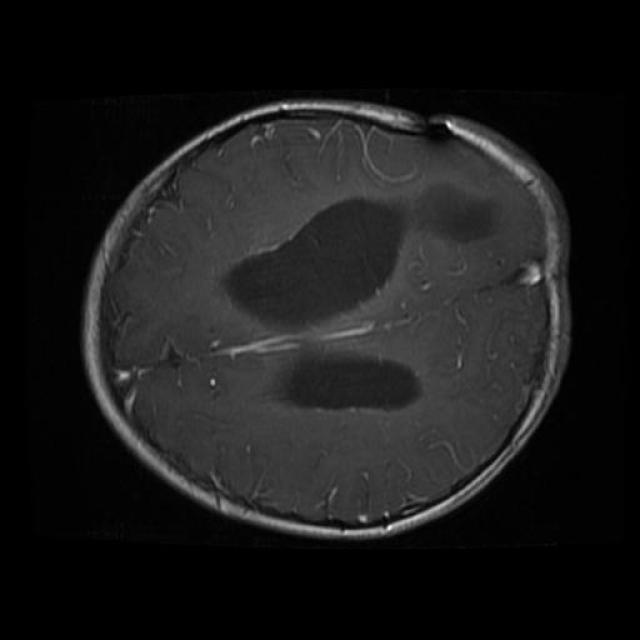Glioma: (338, 181, 498, 286)
